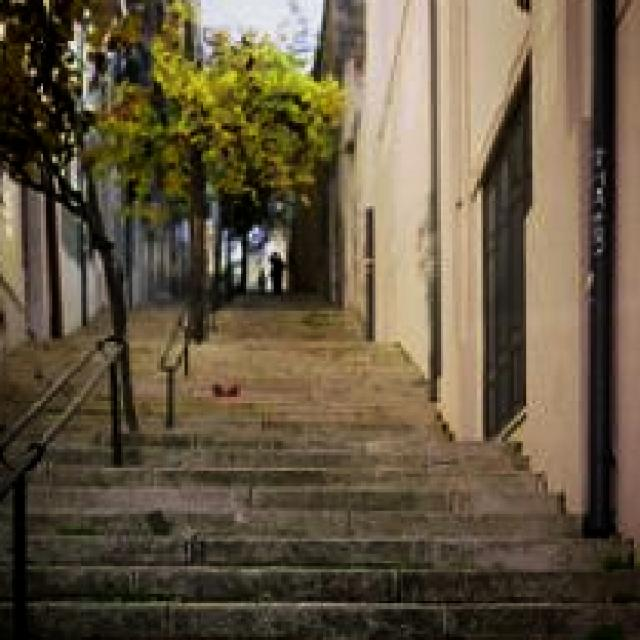upstair: (1, 361, 640, 640)
